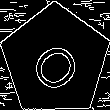O_NE: (23, 28, 87, 93)
